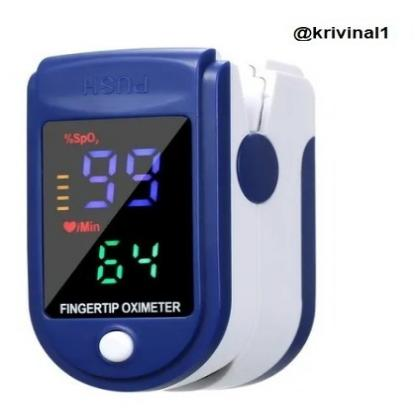Displays: (42, 116, 192, 317)
